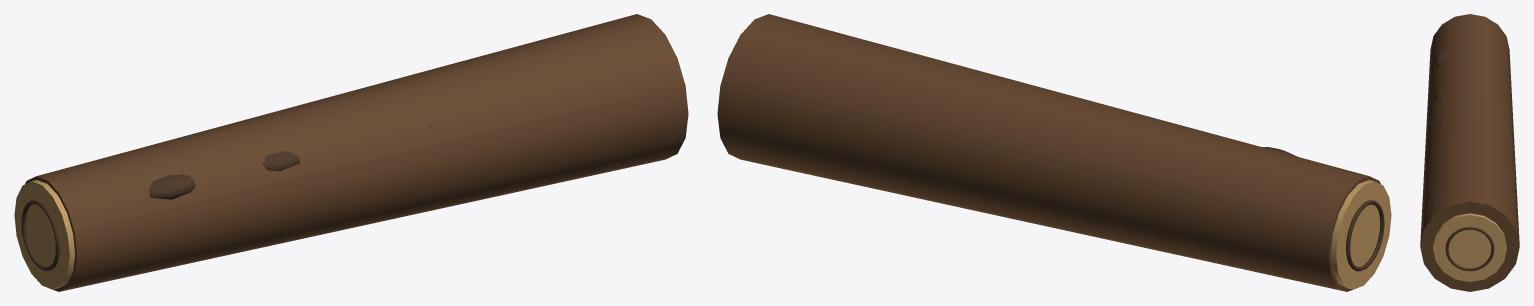
File: fallen_trunk.glb
3 views of the same model, side by side, from view 1: azimuth 30°, elevation 25°; view 2: azimuth 150°, elevation 25°; view 3: azimuth 270°, elevation 25° (orthographic). The views are drawn at different scales.
Visible parts, largest first — view 1: fallen_trunk; view 2: fallen_trunk; view 3: fallen_trunk.
Boxes of the visible parts, x1,y1,x2,y2 form: fallen_trunk: [14, 14, 688, 291]; fallen_trunk: [717, 14, 1391, 291]; fallen_trunk: [1420, 14, 1519, 291].
Bounding box in the file's own units: 3.75 × 0.78 × 0.78.
